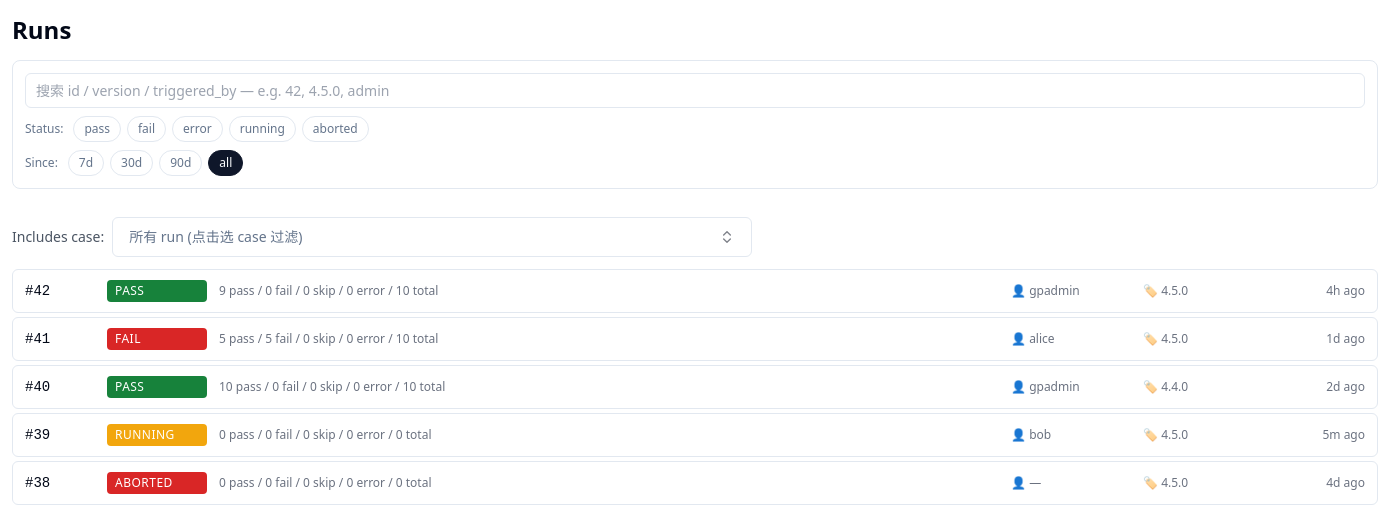
Scenario: RunsPage › chip "fail" filters to verdict=fail rows
The image size is (1378, 522).
Step 1. Click the button with test id "filter-status-fail" → (147, 129), box [127,116,166,142]
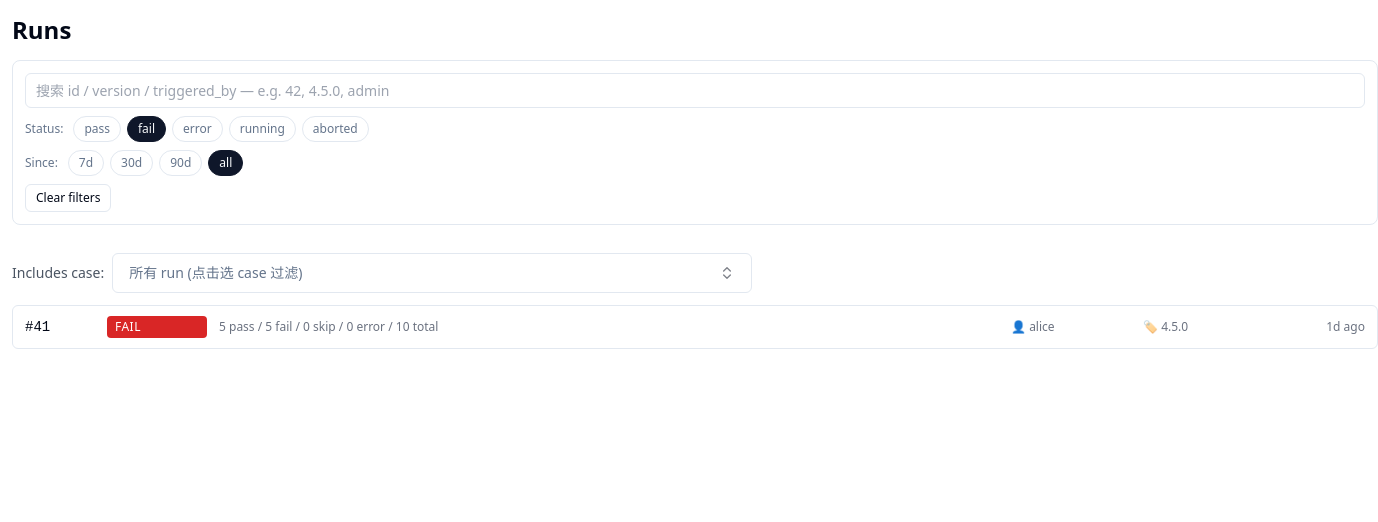
Check: the link with test id "runs-page-row-41" is shown, box [12,305,1377,349]
Check: the link with test id "runs-page-row-42" is gone
Check: the link with test id "runs-page-row-40" is gone
